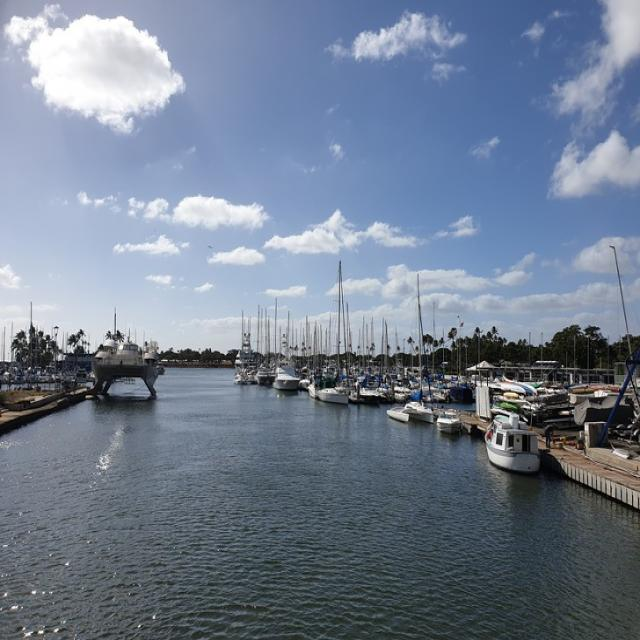houseboat: (478, 408, 536, 484)
